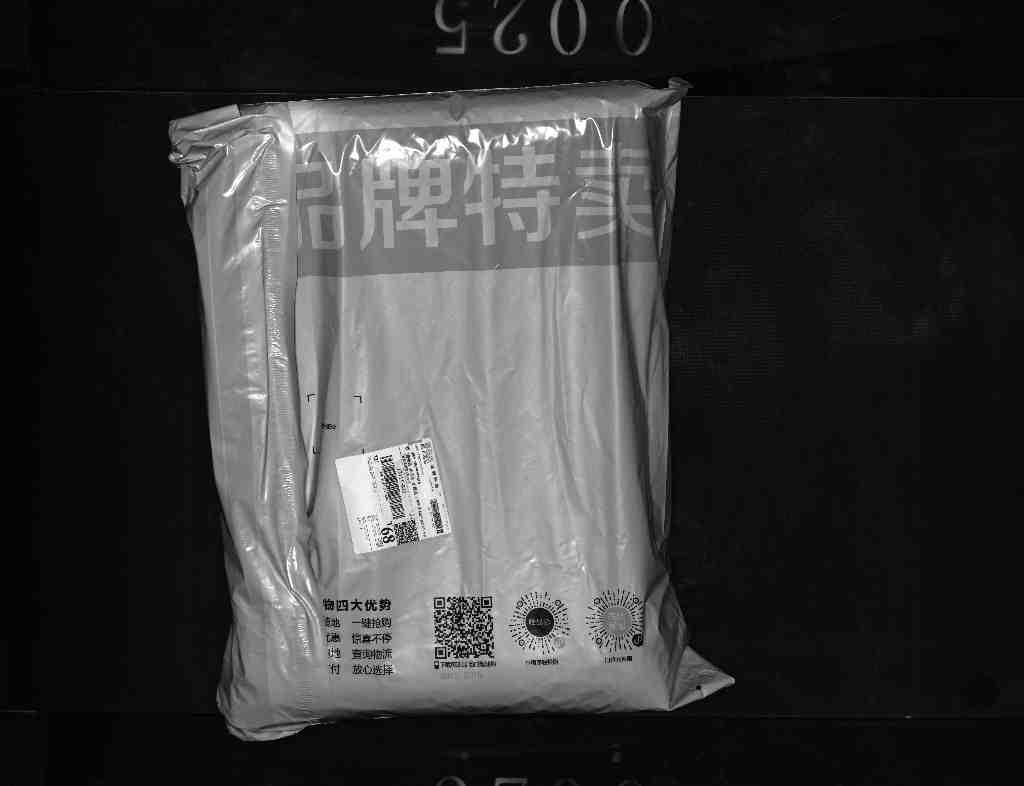box: (158, 79, 748, 735)
